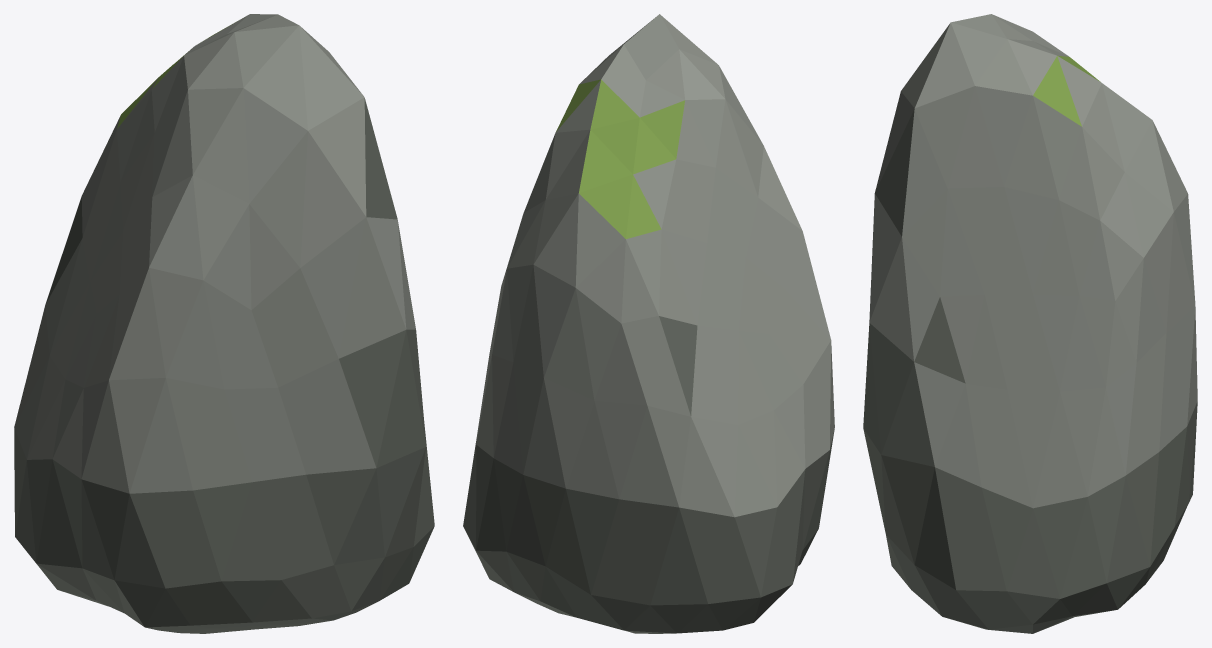
Rendered from Rock_Tall.fbx.
The picture shows the model from 3 angles, left to right: view 1: azimuth 30°, elevation 25°; view 2: azimuth 150°, elevation 25°; view 3: azimuth 270°, elevation 25°; orthographic projection. The views are drawn at different scales.
Visible parts, largest first — view 1: Rock_Tall.001; view 2: Rock_Tall.001; view 3: Rock_Tall.001.
Boxes of the visible parts, box(x1,y1,x2,y2) form: Rock_Tall.001: box(14, 14, 434, 633); Rock_Tall.001: box(463, 14, 834, 633); Rock_Tall.001: box(863, 14, 1197, 633).
Size of the model in its own units: 1.35 by 2.28 by 1.19.
